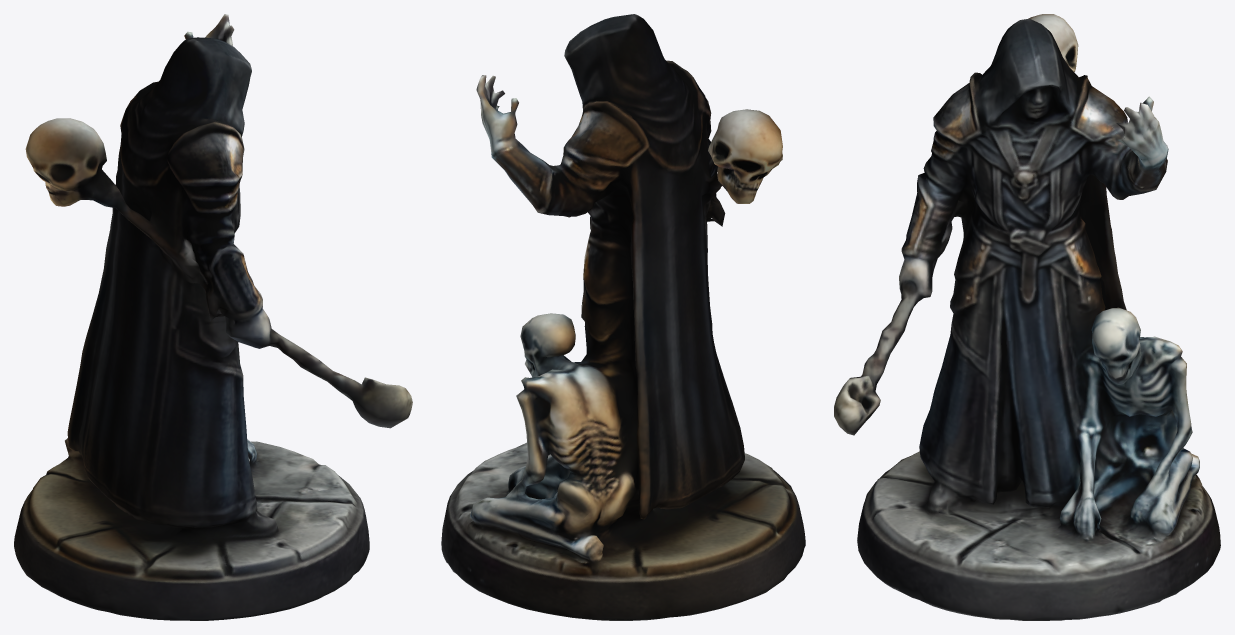
File: darkacolyte.glb
The picture shows the model from 3 angles, left to right: view 1: azimuth 30°, elevation 25°; view 2: azimuth 150°, elevation 25°; view 3: azimuth 270°, elevation 25°; orthographic projection. The views are drawn at different scales.
Parts seen in each view (by area): view 1: lagrange_node; view 2: lagrange_node; view 3: lagrange_node.
Part boxes in pixels (bbox=[...]): lagrange_node: bbox=[14, 14, 412, 620]; lagrange_node: bbox=[441, 14, 805, 620]; lagrange_node: bbox=[834, 14, 1220, 620].
Size of the model in its own units: 1.28 by 2.02 by 1.34.
1 material, 1 textured.
